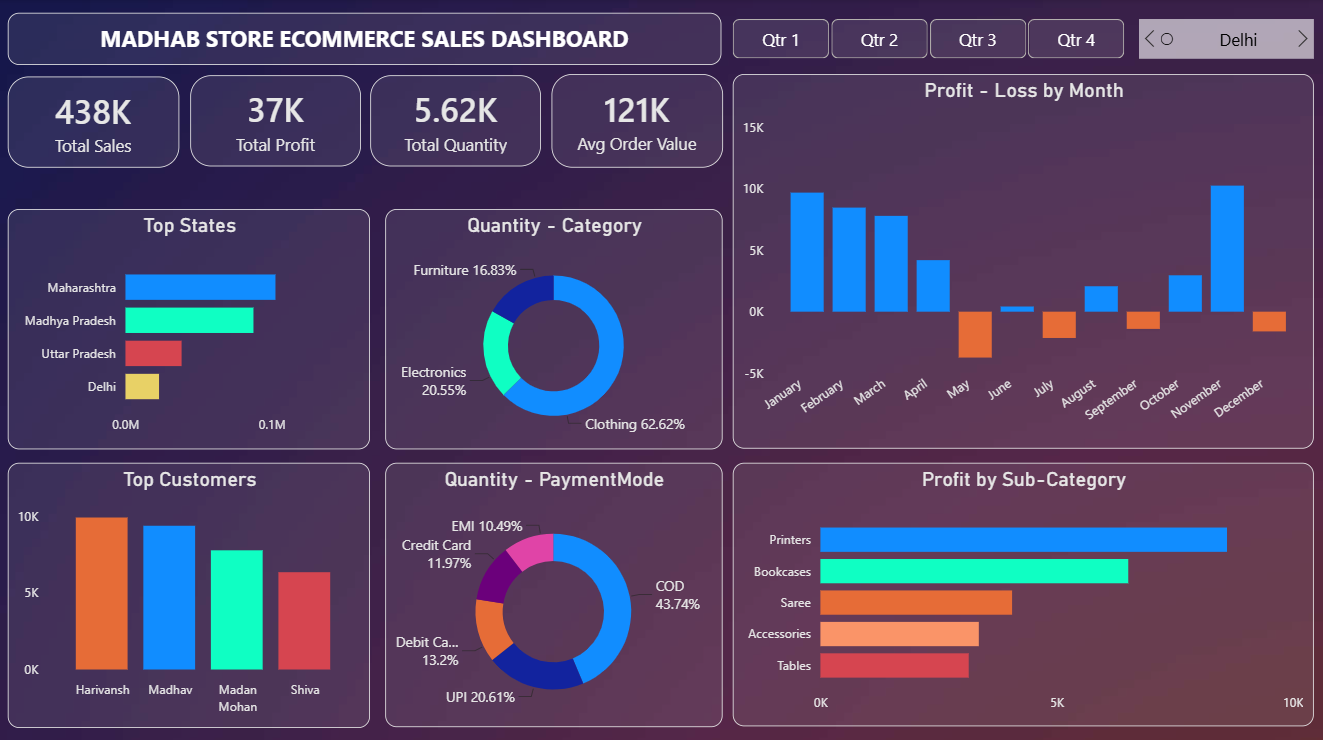

Layout of this report page (visuals, bound fields, positions):
{"tool":"powerbi","page":{"name":"Page 1","canvas":[1280,720],"ordinal":0},"visuals":[{"type":"textbox","box":[8.4,13.3,688.9,50.7],"z":0},{"type":"clusteredColumnChart","title":"Profit - Loss by Month","fields":{"Category":["Orders.Order Date.Variation.Date Hierarchy.Month"],"Y":["Sum(Details.Profit)"]},"box":[708.2,72.4,561,361.9],"z":1000},{"type":"barChart","title":"Profit by Sub-Category","fields":{"Category":["Details.Sub-Category"],"Y":["Sum(Details.Profit)"]},"box":[708.2,447.6,561,254.6],"z":2000},{"type":"donutChart","title":"Quantity - Category","fields":{"Y":["Sum(Details.Quantity)"],"Category":["Details.Category"]},"box":[372.8,202.7,325.7,231.6],"z":3000},{"type":"donutChart","title":"Quantity - PaymentMode","fields":{"Y":["Sum(Details.Quantity)"],"Category":["Details.PaymentMode"]},"box":[372.8,447.6,325.2,255.2],"z":4000},{"type":"cardVisual","fields":{"Data":["Sum(Details.Amount)"]},"box":[8.4,74.8,165.3,88.1],"z":5000},{"type":"cardVisual","fields":{"Data":["Sum(Details.Profit)"]},"box":[184.6,73.6,165,88.1],"z":6000},{"type":"cardVisual","fields":{"Data":["Sum(Details.Quantity)"]},"box":[358.3,73.6,165,88.1],"z":7000},{"type":"cardVisual","fields":{"Data":["Sum(Details.AOV)"]},"box":[533.2,72.4,165.3,90.5],"z":8000},{"type":"columnChart","title":"Top Customers","fields":{"Y":["Sum(Details.Amount)"],"Category":["Orders.CustomerName"]},"box":[8.4,447.6,349.9,255.8],"z":9000},{"type":"barChart","title":"Top States","fields":{"Y":["Sum(Details.Amount)"],"Category":["Orders.State"]},"box":[8.4,202.7,349.9,231.6],"z":10000},{"type":"advancedSlicerVisual","fields":{"Values":["Orders.Order Date.Variation.Date Hierarchy.Quarter"]},"box":[708.2,19.3,378.8,38.6],"z":11000},{"type":"advancedSlicerVisual","fields":{"Values":["Orders.State"]},"box":[1100.3,19.3,168.9,38.6],"z":12000}]}

Visuals, with their boxes in screenshot pixels (x1, y1, x2, y2), scaled from the page's 1280x720 canvas onto the 1323x740 screenshot:
textbox: l=9, t=14, r=721, b=66
"Profit - Loss by Month" clusteredColumnChart: l=732, t=74, r=1312, b=446
"Profit by Sub-Category" barChart: l=732, t=460, r=1312, b=722
"Quantity - Category" donutChart: l=385, t=208, r=722, b=446
"Quantity - PaymentMode" donutChart: l=385, t=460, r=721, b=722
cardVisual - Sum(Details.Amount): l=9, t=77, r=180, b=167
cardVisual - Sum(Details.Profit): l=191, t=76, r=361, b=166
cardVisual - Sum(Details.Quantity): l=370, t=76, r=541, b=166
cardVisual - Sum(Details.AOV): l=551, t=74, r=722, b=167
"Top Customers" columnChart: l=9, t=460, r=370, b=723
"Top States" barChart: l=9, t=208, r=370, b=446
advancedSlicerVisual - Orders.Order Date.Variation.Date Hierarchy.Quarter: l=732, t=20, r=1124, b=60
advancedSlicerVisual - Orders.State: l=1137, t=20, r=1312, b=60
